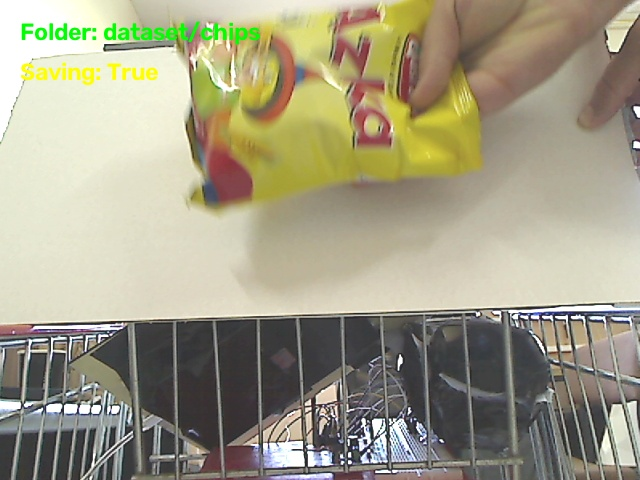chips: (179, 0, 482, 207)
